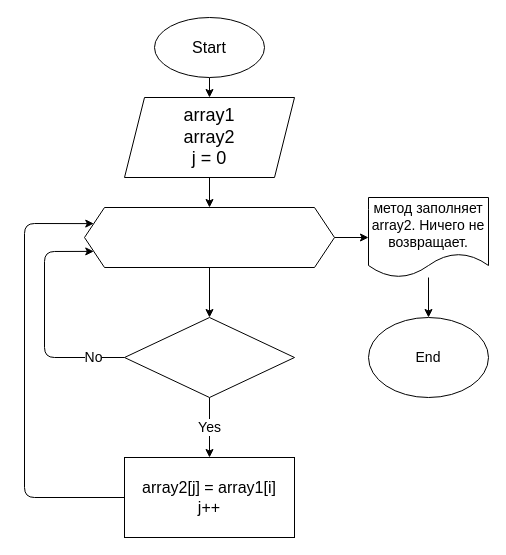
This 506x555 diagram has some shape labels left out. Each missing label, with the centre of its shape:
"array1[i].length <= 3" belongs at pixel 209 357.
"i = 0; i < array1.length; i++" belongs at pixel 209 237.
